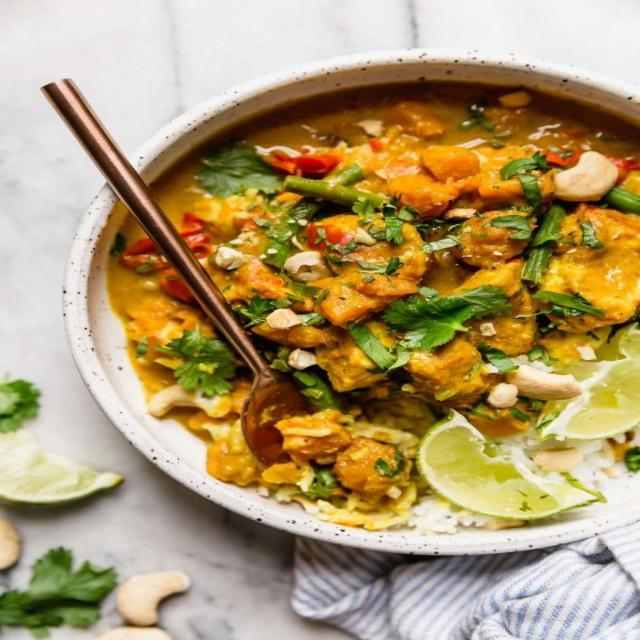chicken: (129, 75, 639, 538)
